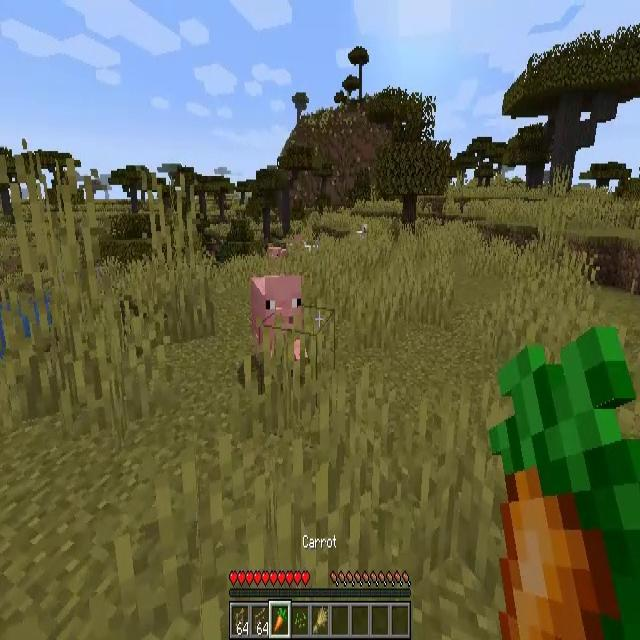pig: (254, 277, 308, 377), (268, 243, 286, 270)
